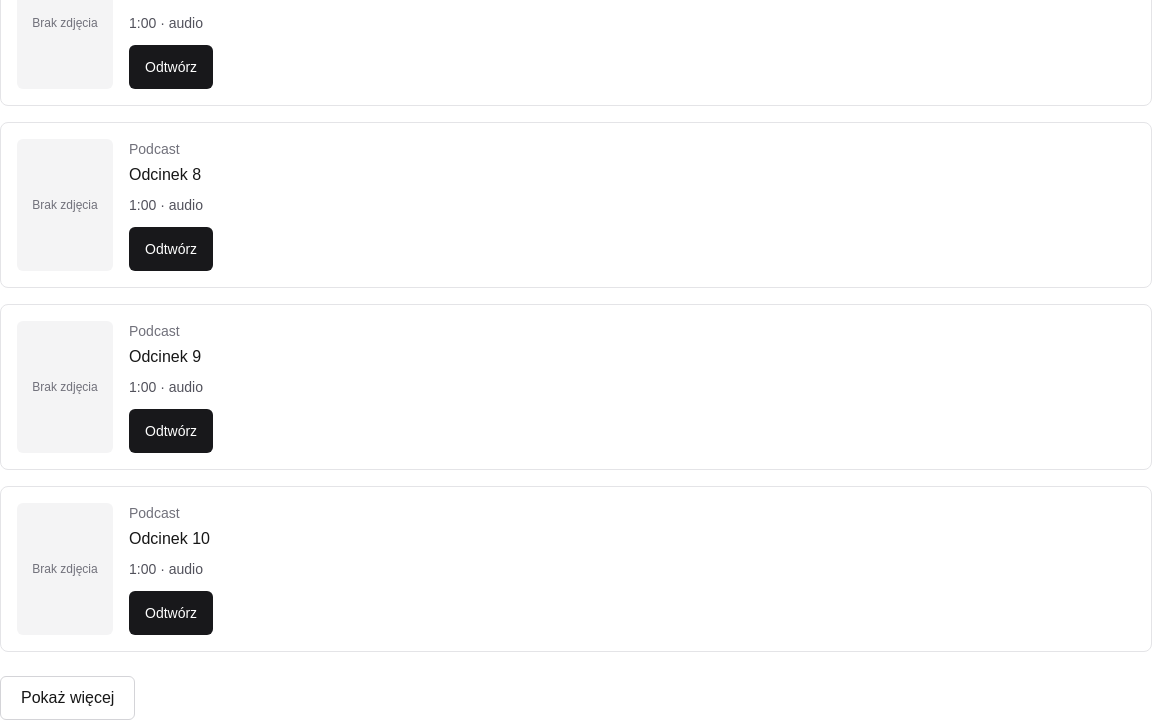
Scenario: PodcastBrowser › loads and appends the next API page
(page scrolled)
Click the button "Pokaż więcej". click: (68, 698)
box: [0, 676, 135, 719]
(page scrolled)
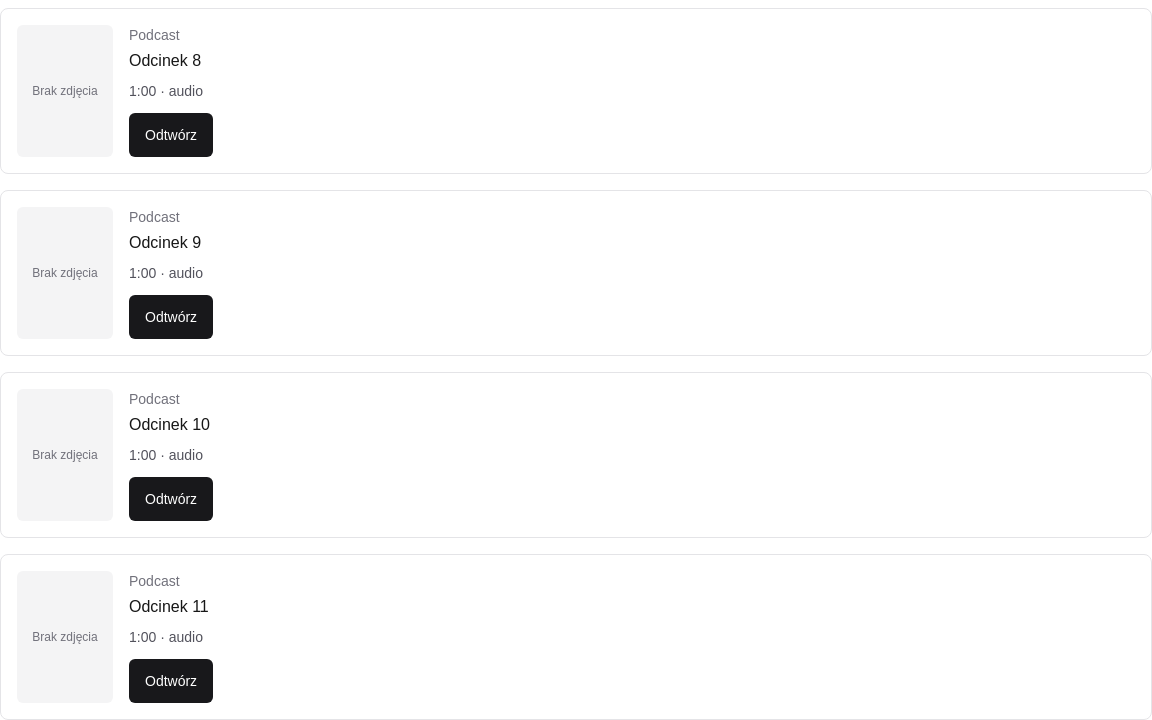
Now the link "Odcinek 11" is shown, box [129, 598, 209, 615]
